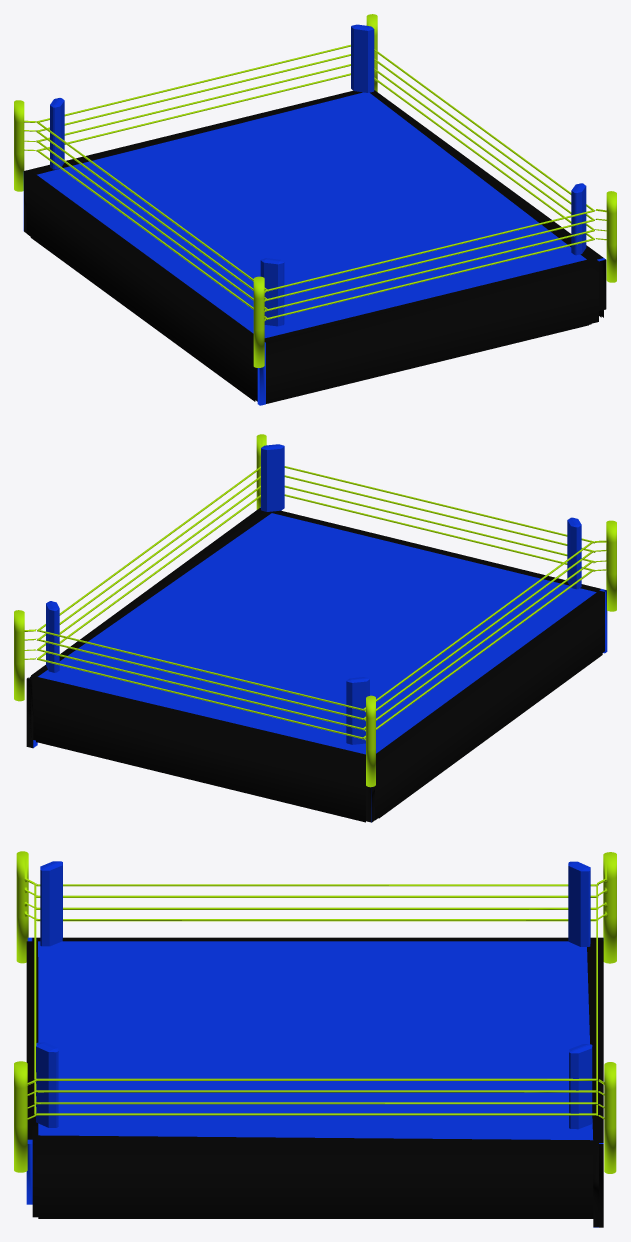
File: boxing_ring.glb
3 views of the same model, one above another, from view 1: azimuth 30°, elevation 25°; view 2: azimuth 150°, elevation 25°; view 3: azimuth 270°, elevation 25° (orthographic). The views are drawn at different scales.
Parts seen in each view (by area): view 1: Cube; view 2: Cube; view 3: Cube.
Boxes of the visible parts, x1,y1,x2,y2 form: Cube: (14, 14, 616, 405); Cube: (14, 434, 616, 822); Cube: (14, 851, 616, 1227).
Bounding box in the file's own units: 18.51 × 6.78 × 21.8.
